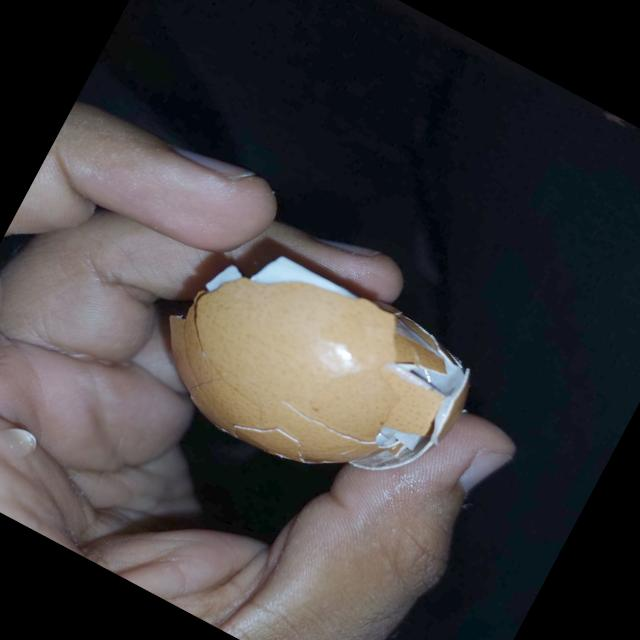organic: (129, 211, 490, 523)
